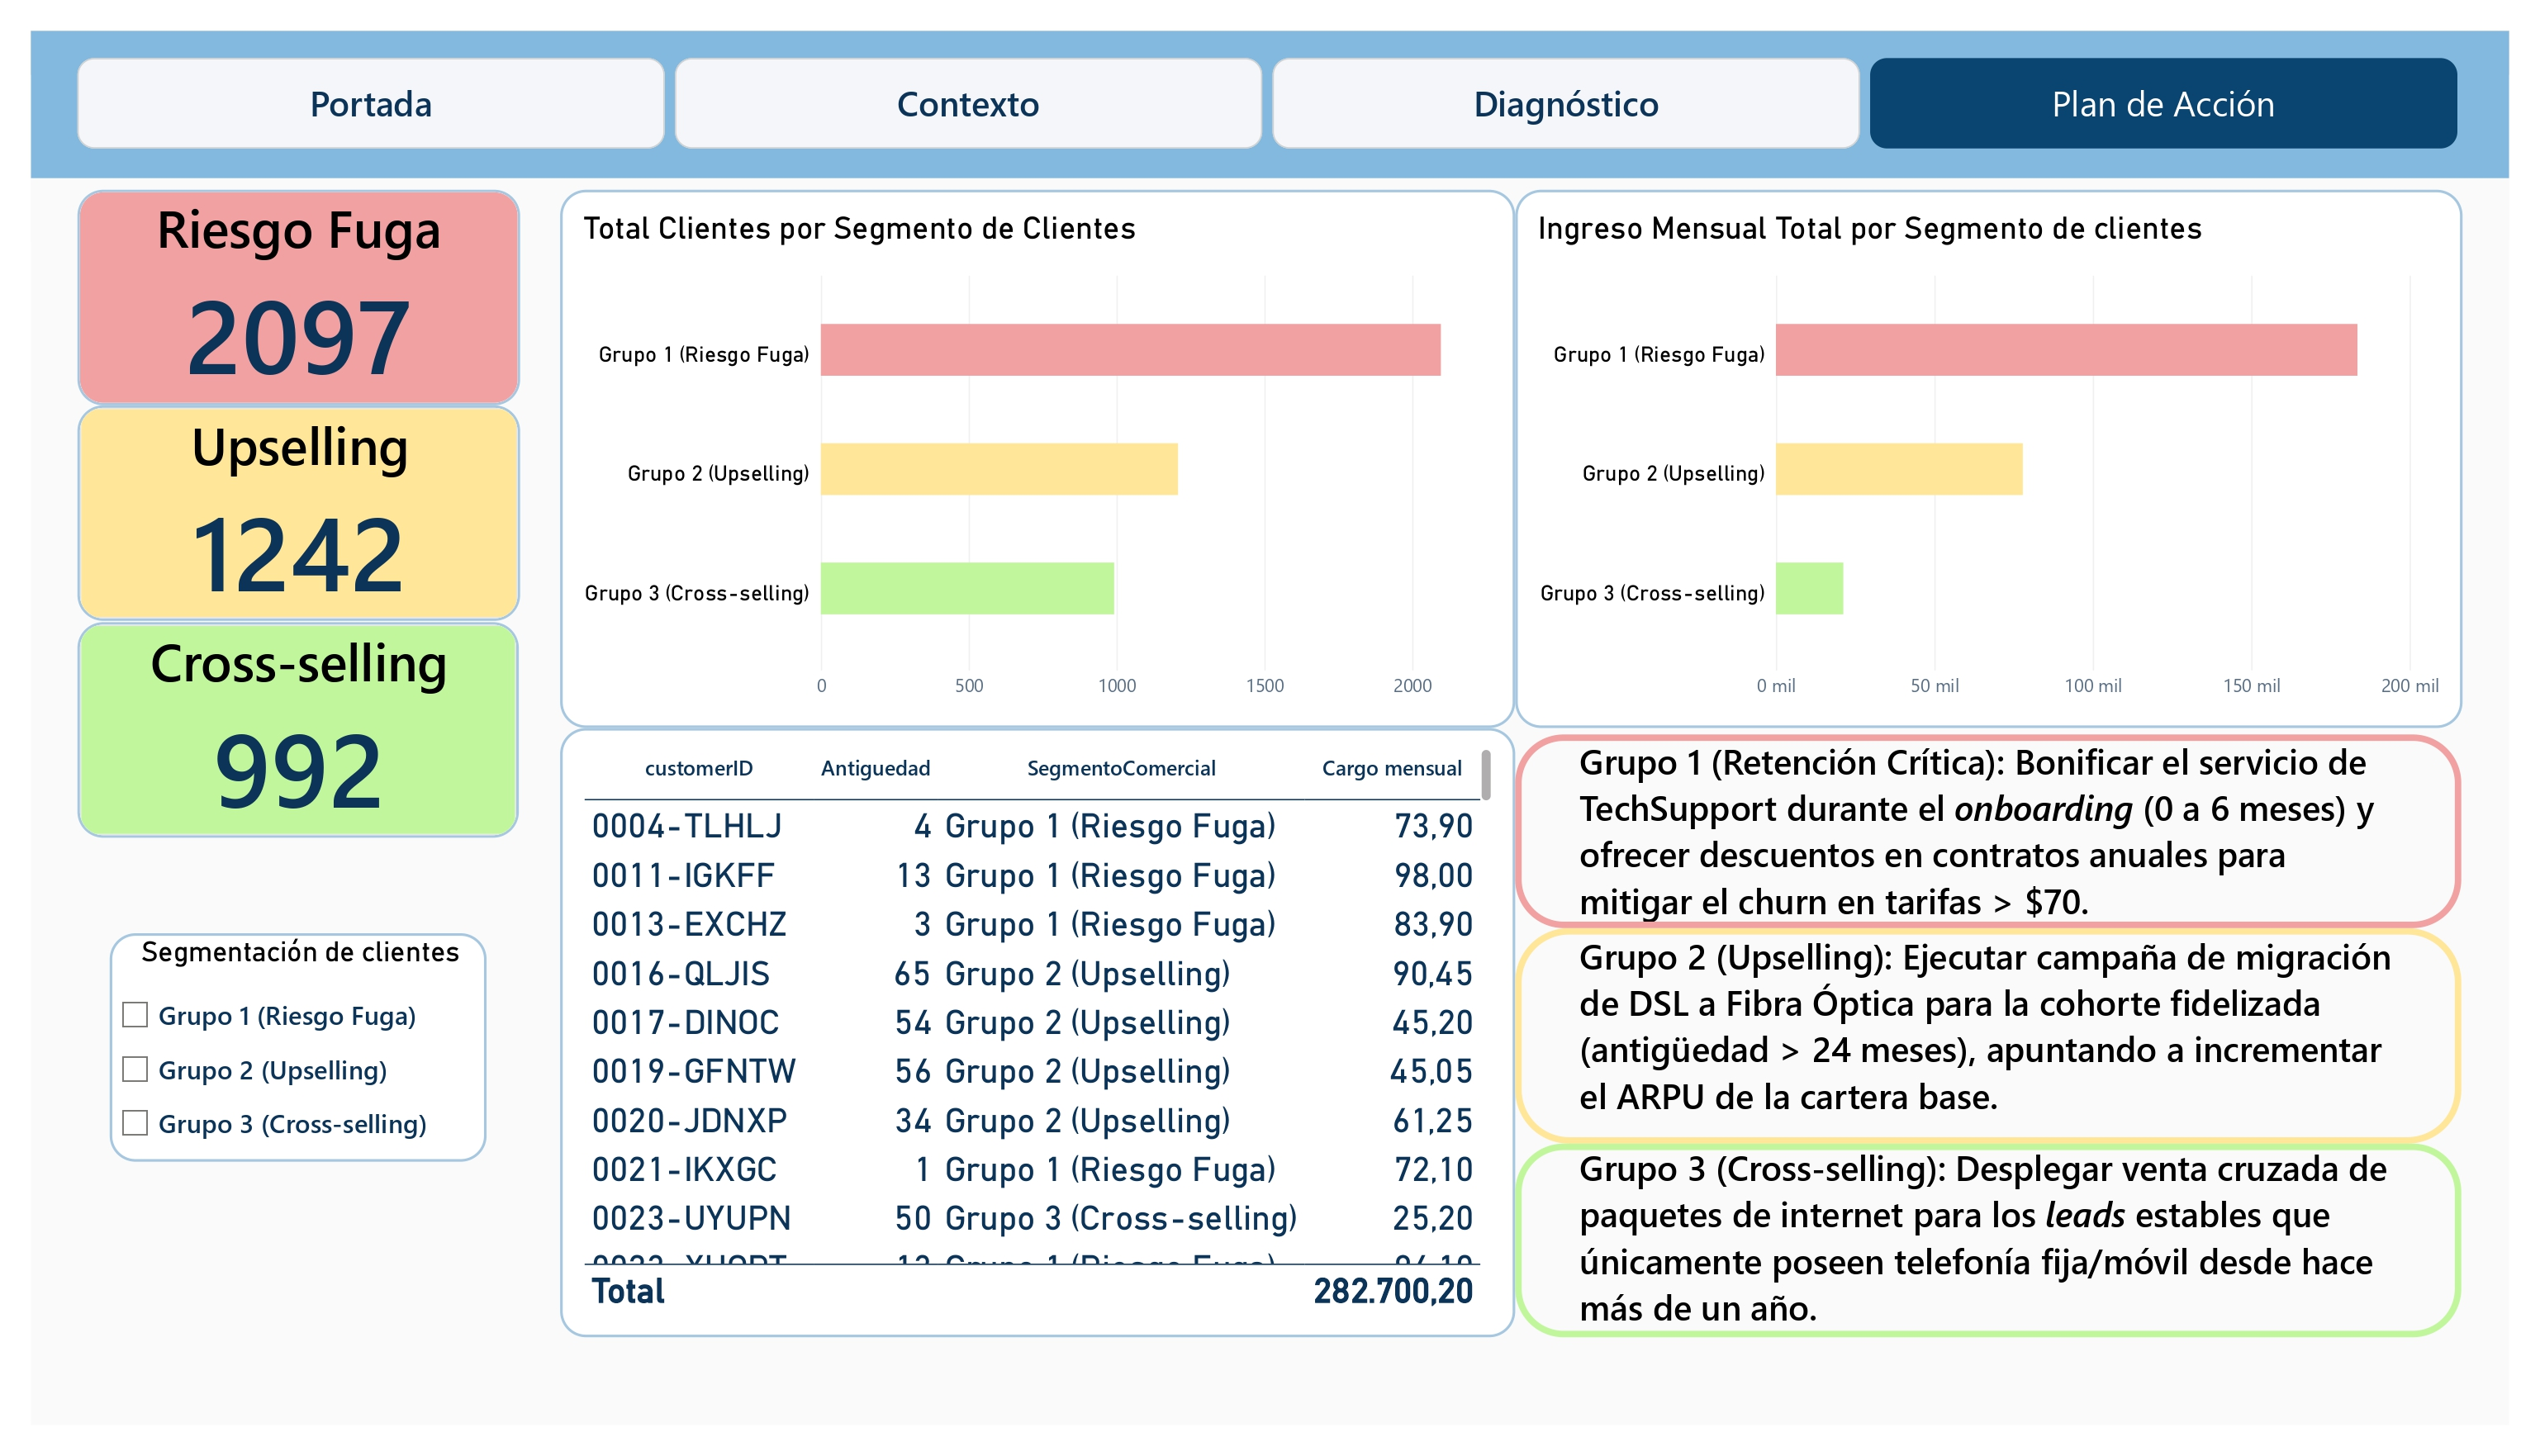

The page's visual inventory and layout, read from the dashboard file:
{"tool":"powerbi","page":{"name":"Plan de Acción","canvas":[1920,1080],"ordinal":3},"visuals":[{"type":"shape","box":[0,0,1920,114],"z":0},{"type":"cardVisual","fields":{"Data":["_Medidas.Leads Riesgo Fuga"]},"box":[36.2,122.5,342.9,167.1],"z":1000},{"type":"cardVisual","fields":{"Data":["_Medidas.Leads Upselling"]},"box":[35.7,290,342.9,167.1],"z":2000},{"type":"cardVisual","fields":{"Data":["_Medidas.Leads Cross-selling"]},"box":[36.2,457.5,341.4,167.1],"z":3000},{"type":"clusteredBarChart","title":"Ingreso Mensual Total por Segmento de clientes","fields":{"Category":["vw_Fact_Transacciones.SegmentoComercial"],"Y":["_Medidas.Ingreso Mensual Total"]},"box":[1150,122.5,733.8,417.5],"z":4000},{"type":"tableEx","fields":{"Values":["vw_Dim_Cliente.customerID","vw_Fact_Transacciones.tenure","vw_Fact_Transacciones.SegmentoComercial","Sum(vw_Fact_Transacciones.MonthlyCharges)"]},"box":[410,540,740,472.2],"z":5000},{"type":"clusteredBarChart","title":"Total Clientes por Segmento de Clientes","fields":{"Category":["vw_Fact_Transacciones.SegmentoComercial"],"Y":["_Medidas.Total Clientes"]},"box":[410,122.9,740,416.7],"z":6000},{"type":"slicer","title":"Segmentación de clientes","fields":{"Values":["vw_Fact_Transacciones.SegmentoComercial"]},"box":[61.2,698.8,291.2,177.5],"z":7000},{"type":"pageNavigator","box":[35.7,21.4,1847.5,70],"z":8000},{"type":"textbox","box":[1200,546.7,633.3,156.7],"z":9000},{"type":"textbox","box":[1200,698.3,633.3,160],"z":10000},{"type":"textbox","box":[1200,861.7,633.3,150],"z":11000},{"type":"shape","box":[1150,695,733.3,166.7],"z":12000},{"type":"shape","box":[1150,545,733.3,150],"z":13000},{"type":"shape","box":[1150,861.7,733.3,150],"z":14000}]}

Visuals, with their boxes on the page's 1920x1080 design canvas (x1, y1, x2, y2). These are canvas units, not pixel positions in the 2540x1456 screenshot, which may show the page scaled, cropped or inside an application window:
shape: x1=0, y1=0, x2=1920, y2=114
cardVisual - _Medidas.Leads Riesgo Fuga: x1=36, y1=122, x2=379, y2=290
cardVisual - _Medidas.Leads Upselling: x1=36, y1=290, x2=379, y2=457
cardVisual - _Medidas.Leads Cross-selling: x1=36, y1=458, x2=378, y2=625
"Ingreso Mensual Total por Segmento de clientes" clusteredBarChart: x1=1150, y1=122, x2=1884, y2=540
tableEx - vw_Dim_Cliente.customerID x vw_Fact_Transacciones.tenure: x1=410, y1=540, x2=1150, y2=1012
"Total Clientes por Segmento de Clientes" clusteredBarChart: x1=410, y1=123, x2=1150, y2=540
"Segmentación de clientes" slicer: x1=61, y1=699, x2=352, y2=876
pageNavigator: x1=36, y1=21, x2=1883, y2=91
textbox: x1=1200, y1=547, x2=1833, y2=703
textbox: x1=1200, y1=698, x2=1833, y2=858
textbox: x1=1200, y1=862, x2=1833, y2=1012
shape: x1=1150, y1=695, x2=1883, y2=862
shape: x1=1150, y1=545, x2=1883, y2=695
shape: x1=1150, y1=862, x2=1883, y2=1012
